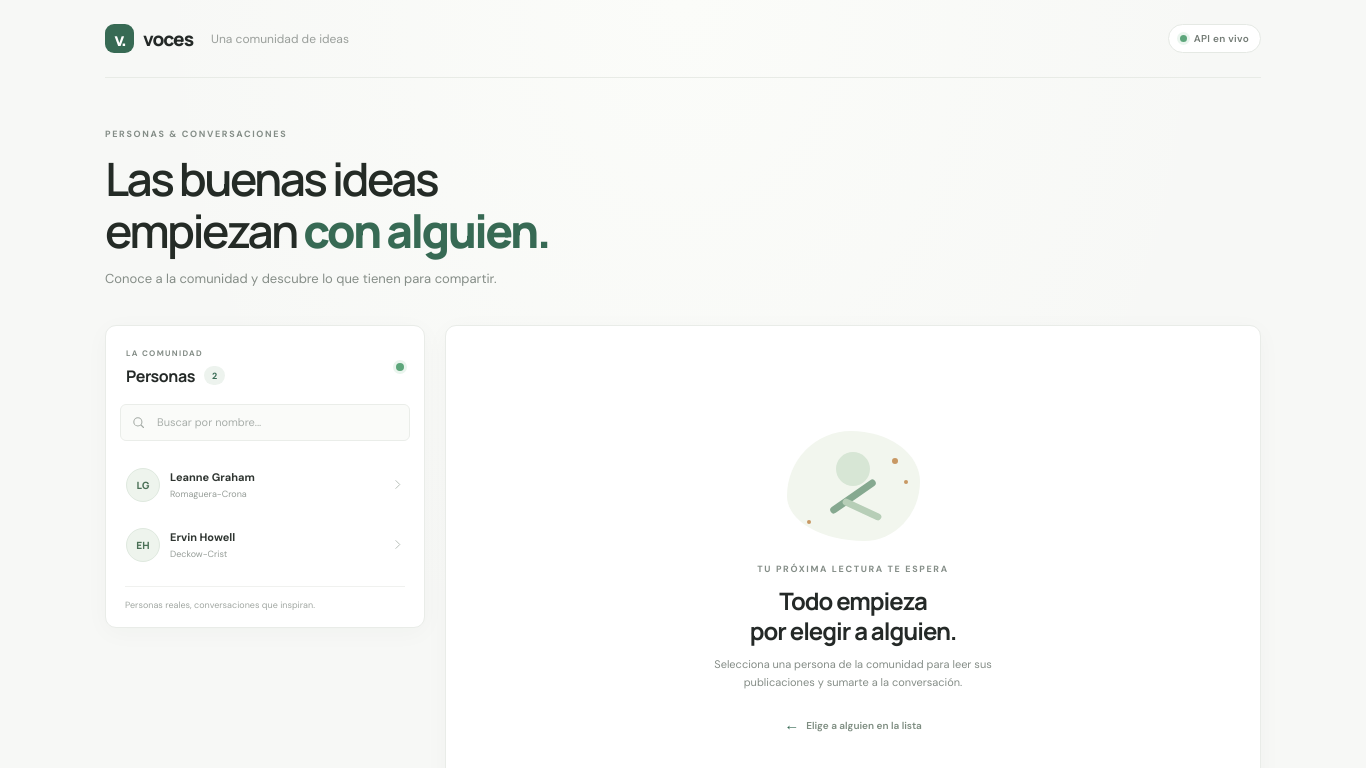
Scenario: Voces › carga las publicaciones del usuario seleccionado
This screenshot has width=1366, height=768.
What coordinates should you click on to do the following:
click the button "LG Leanne Graham Romaguera-Crona"
I would click on:
 (143, 485)
Its box is x1=116 y1=456 x2=414 y2=514.
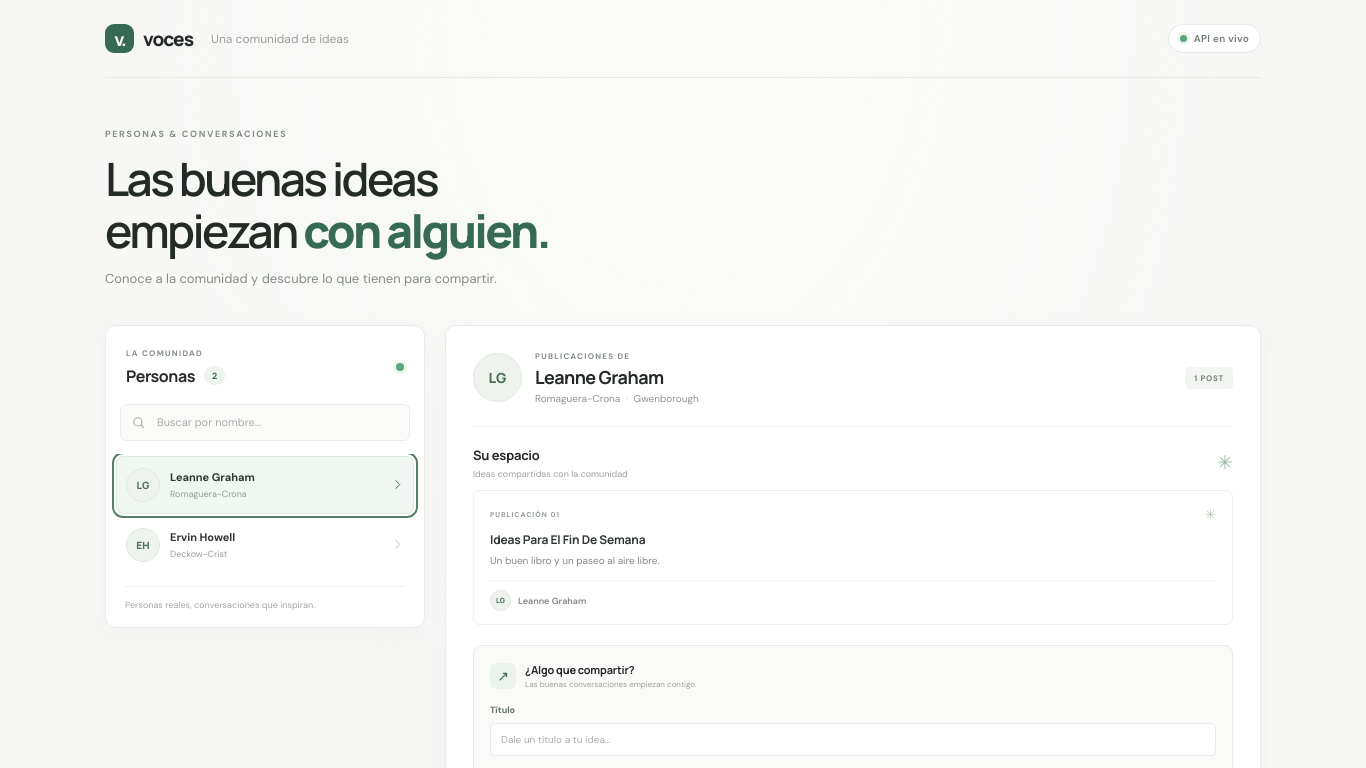
Expected: the heading "Ideas para el fin de semana" is shown, x1=490 y1=531 x2=645 y2=548
